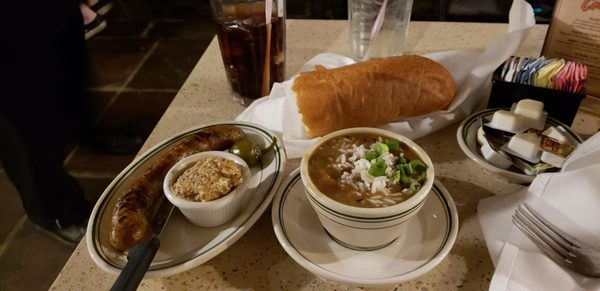salad: (109, 200, 176, 289)
sandwich: (109, 201, 176, 289)
soup: (288, 53, 457, 139)
sushi: (87, 123, 281, 262), (299, 127, 436, 249), (159, 123, 279, 228), (164, 151, 262, 228)
